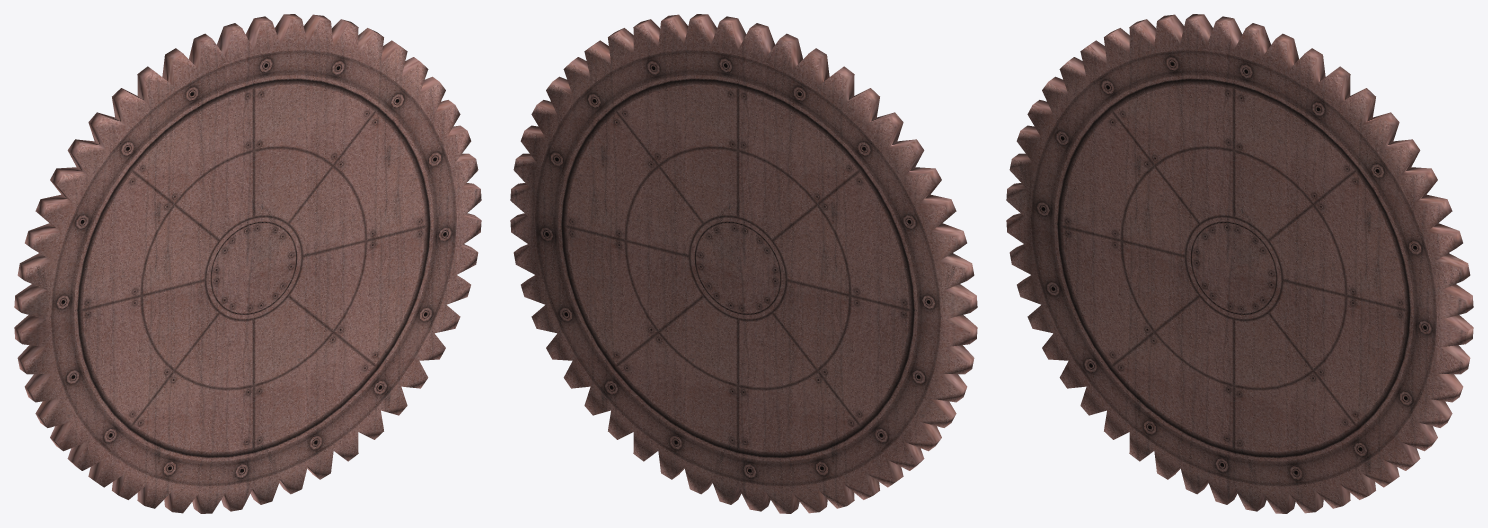
The model's file is gear_big.fbx.
3 views of the same model, side by side, from view 1: azimuth 30°, elevation 25°; view 2: azimuth 150°, elevation 25°; view 3: azimuth 330°, elevation 25° (orthographic).
Visible parts, largest first — view 1: Mesh; view 2: Mesh; view 3: Mesh.
Part boxes in pixels (x1=…): Mesh: x1=14, y1=14, x2=481, y2=513; Mesh: x1=510, y1=14, x2=977, y2=513; Mesh: x1=1006, y1=14, x2=1473, y2=513.
Bounding box in the file's own units: 257 × 257 × 11.45.
